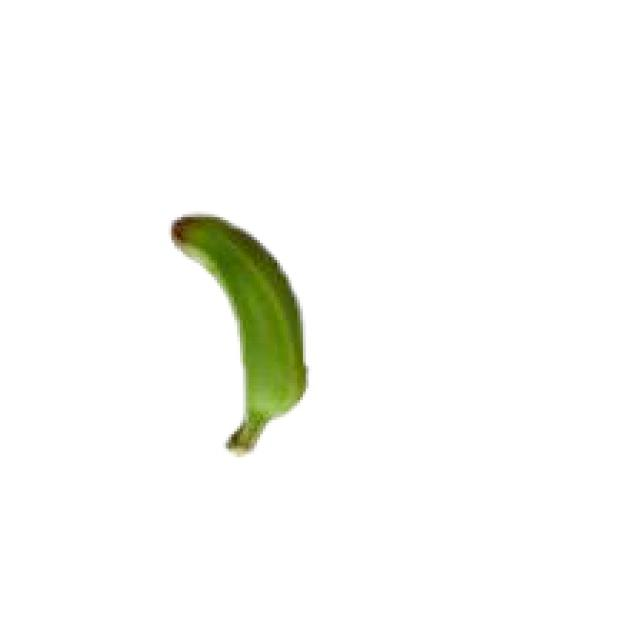fresh-banana: (168, 212, 308, 454)
